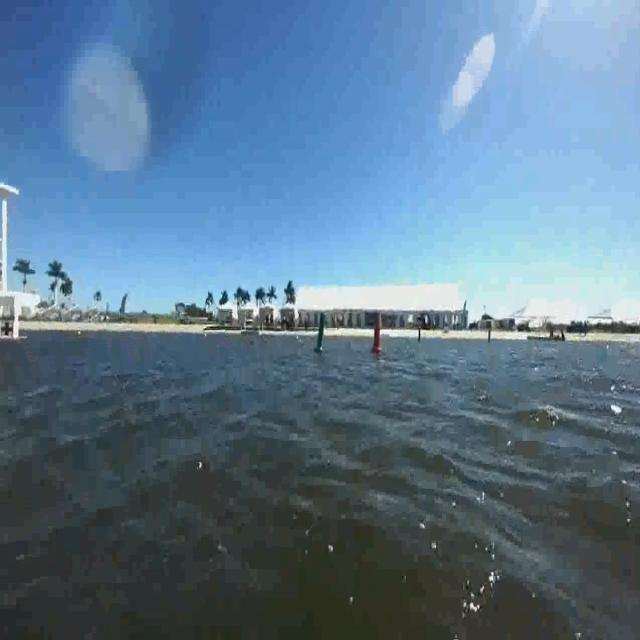green-column-buoy: (314, 312, 329, 355)
red-column-buoy: (370, 317, 383, 355)
